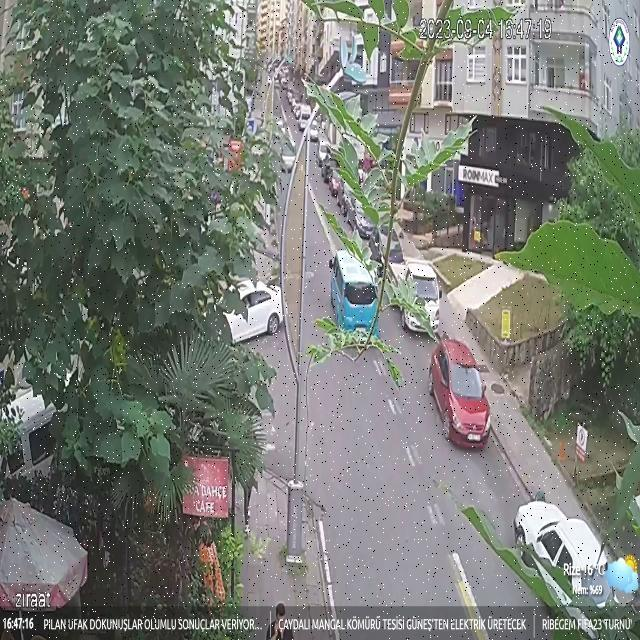Bus: (329, 247, 381, 344)
Car: (518, 498, 632, 638), (429, 339, 492, 448), (210, 280, 286, 344), (343, 189, 375, 238), (372, 227, 405, 263), (322, 156, 342, 182), (329, 169, 348, 195), (317, 141, 332, 163)
Truck: (387, 256, 444, 334)
Van: (299, 102, 312, 128)
